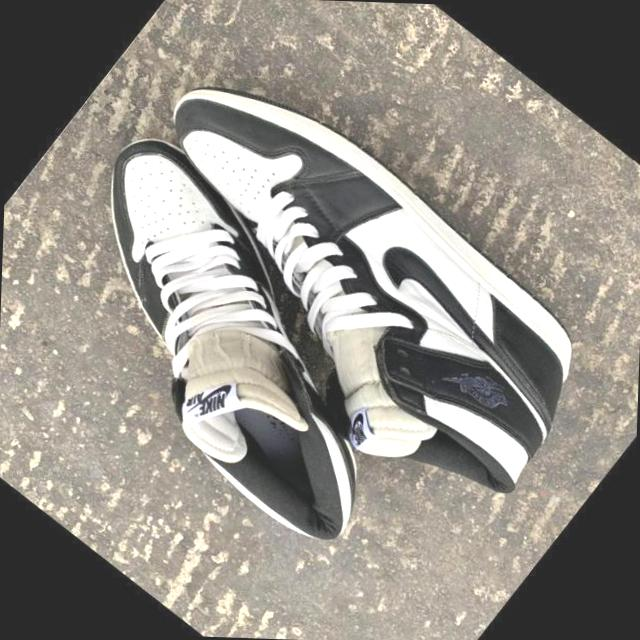nike_fake_jordan: (57, 26, 635, 546), (0, 111, 483, 567)
